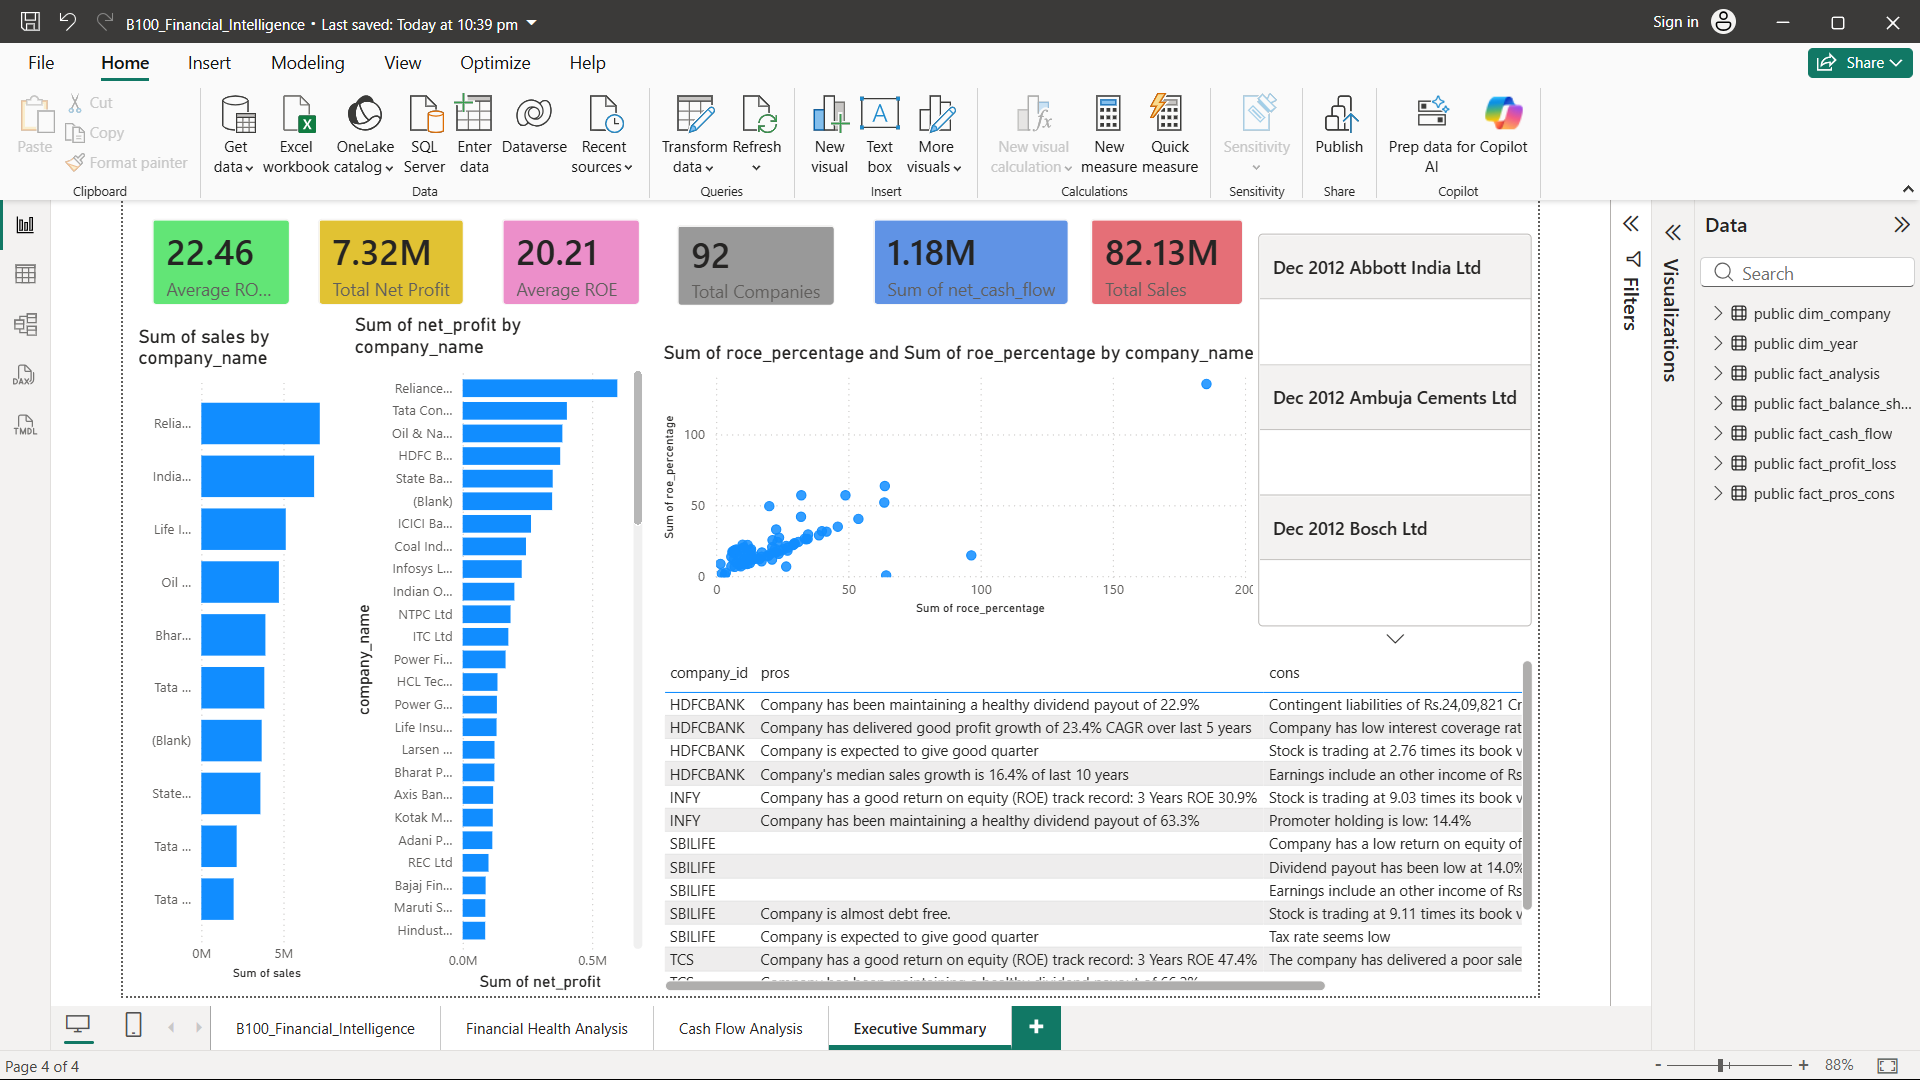

What the dashboard file says about the page in this screenshot:
{"tool":"powerbi","page":{"name":"Executive Summary","canvas":[1280,720],"ordinal":3},"visuals":[{"type":"cardVisual","fields":{"Data":["public dim_company.Average ROCE"]},"box":[9.6,0,159.2,112.5],"z":0},{"type":"cardVisual","fields":{"Data":["public dim_company.Average ROE"]},"box":[325.2,0,159.2,112.5],"z":1000},{"type":"cardVisual","fields":{"Data":["Sum(public fact_cash_flow.net_cash_flow)"]},"box":[661.4,0,211.3,112.5],"z":2000},{"type":"cardVisual","fields":{"Data":["public dim_company.Total Net Profit"]},"box":[159.2,0,166,112.5],"z":3000},{"type":"cardVisual","fields":{"Data":["public dim_company.Total Companies"]},"box":[484.4,5.5,177,107],"z":4000},{"type":"cardVisual","fields":{"Data":["public dim_company.Total Sales"]},"box":[857.6,0,172.9,112.5],"z":5000},{"type":"clusteredBarChart","fields":{"Category":["public dim_company.company_name"],"Y":["Sum(public fact_profit_loss.sales)"]},"box":[9.6,112.5,194.9,596.9],"z":6000},{"type":"barChart","fields":{"Category":["public dim_company.company_name"],"Y":["Sum(public fact_profit_loss.net_profit)"]},"box":[204.5,102.9,270.3,617.5],"z":7000},{"type":"scatterChart","fields":{"X":["Sum(public dim_company.roce_percentage)"],"Y":["Sum(public dim_company.roe_percentage)"],"Category":["public dim_company.company_name"]},"box":[484.4,127.6,546.1,252.5],"z":8000},{"type":"tableEx","fields":{"Values":["public fact_pros_cons.company_id","public fact_pros_cons.pros","public fact_pros_cons.cons"]},"box":[484.4,411.7,795.9,308.7],"z":9000},{"type":"cardVisual","fields":{"Rows":["public dim_year.year_label","public dim_company.company_name"]},"box":[1022.3,5.5,258,406.2],"z":10000}]}

Visuals, with their boxes on the page's 1280x720 design canvas (x1, y1, x2, y2). These are canvas units, not pixel positions in the 1920x1080 screenshot, which may show the page scaled, cropped or inside an application window:
cardVisual - public dim_company.Average ROCE: crop(10, 0, 169, 112)
cardVisual - public dim_company.Average ROE: crop(325, 0, 484, 112)
cardVisual - Sum(public fact_cash_flow.net_cash_flow): crop(661, 0, 873, 112)
cardVisual - public dim_company.Total Net Profit: crop(159, 0, 325, 112)
cardVisual - public dim_company.Total Companies: crop(484, 6, 661, 112)
cardVisual - public dim_company.Total Sales: crop(858, 0, 1030, 112)
clusteredBarChart - public dim_company.company_name x Sum(public fact_profit_loss.sales): crop(10, 112, 204, 709)
barChart - public dim_company.company_name x Sum(public fact_profit_loss.net_profit): crop(204, 103, 475, 720)
scatterChart - Sum(public dim_company.roce_percentage) x Sum(public dim_company.roe_percentage): crop(484, 128, 1030, 380)
tableEx - public fact_pros_cons.company_id x public fact_pros_cons.pros: crop(484, 412, 1280, 720)
cardVisual - public dim_year.year_label x public dim_company.company_name: crop(1022, 6, 1280, 412)
